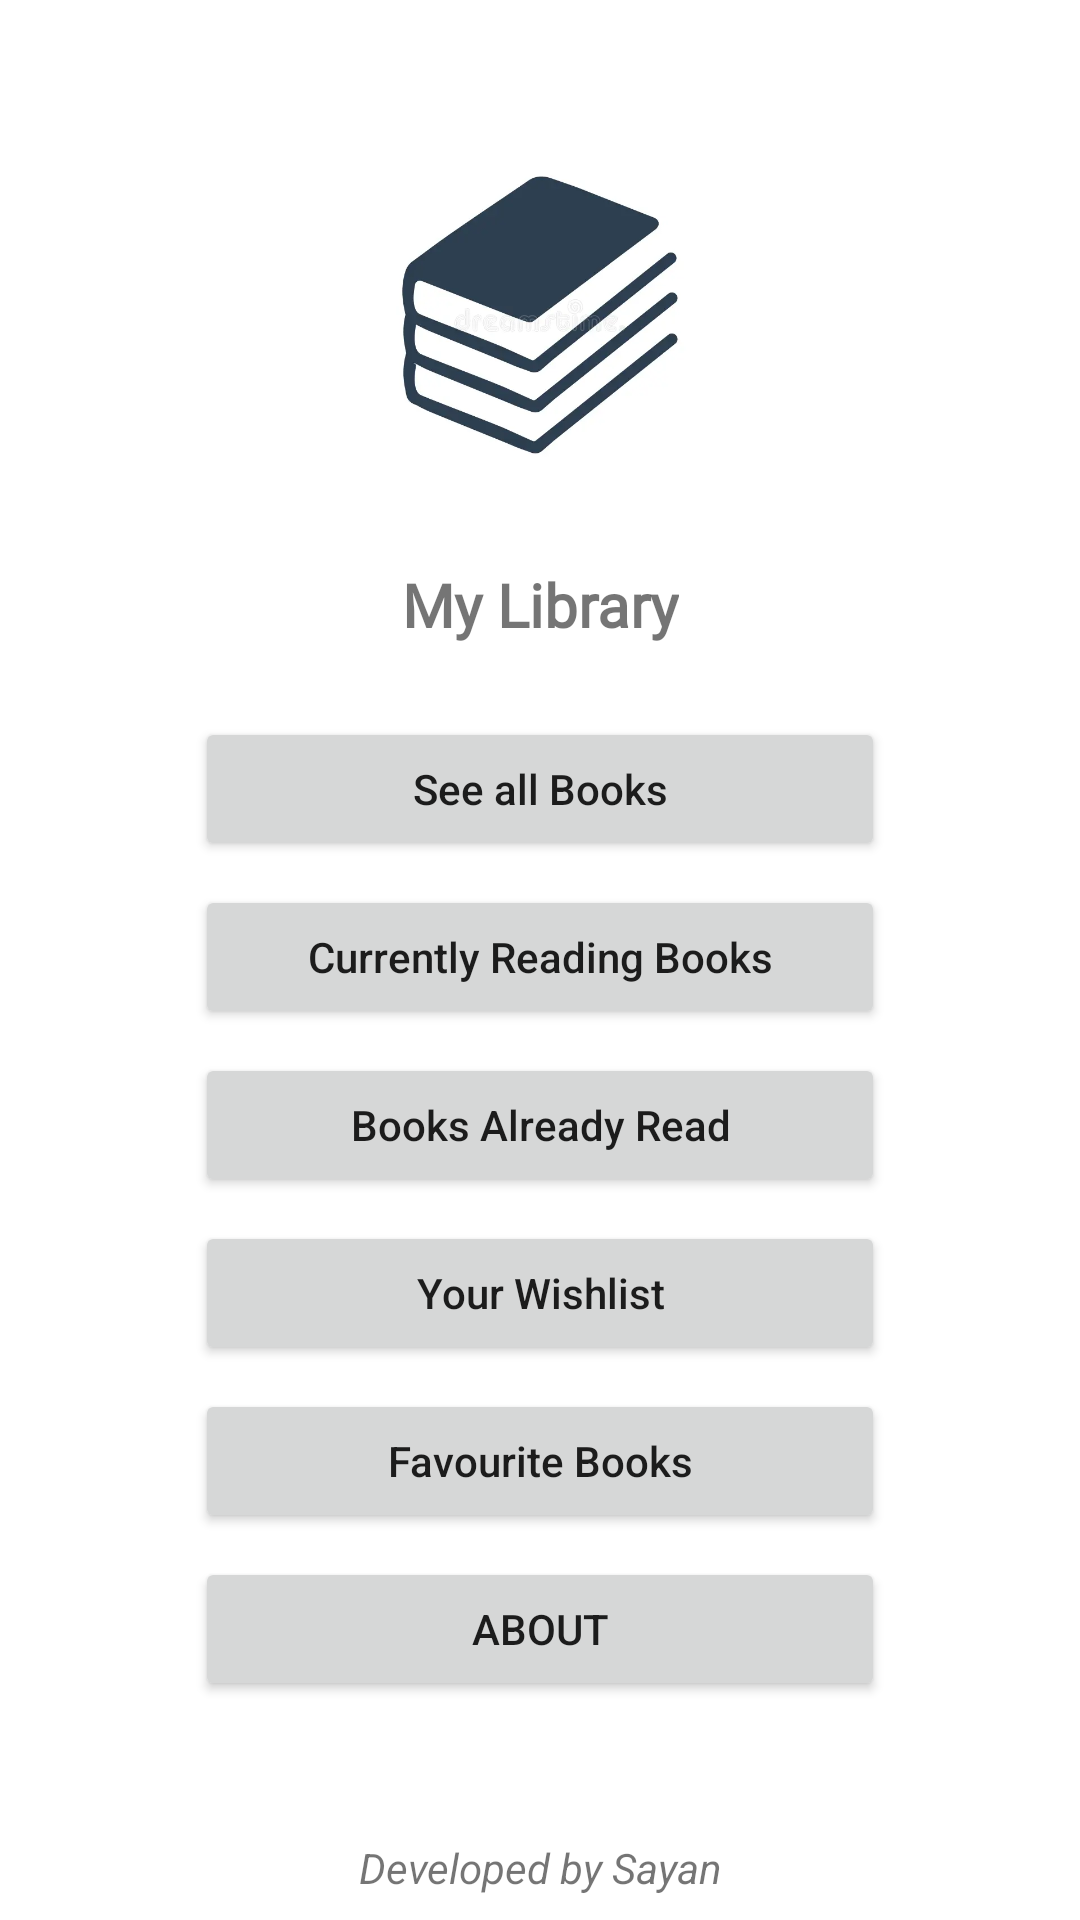

Point at icon controls on the screen. Image size 1080 × 1920, points as point (x, y).
iconlib: point (540, 315)
